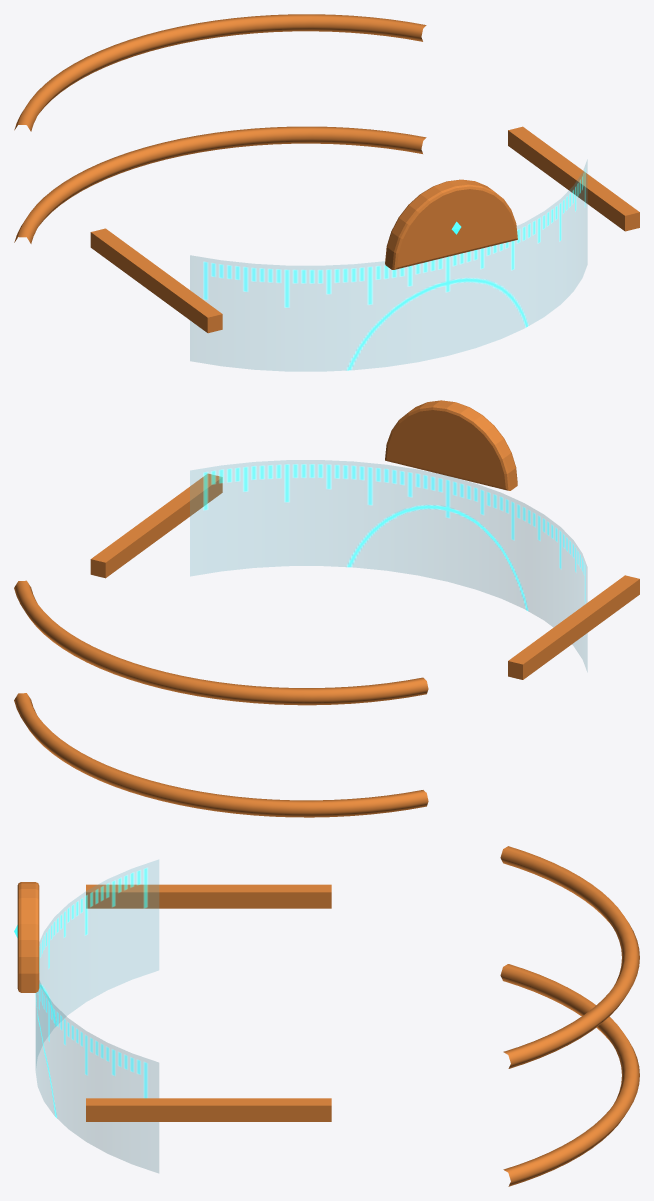
Rendered from gl_eqsu3.glb.
3 views of the same model, one above another, from view 1: azimuth 30°, elevation 25°; view 2: azimuth 150°, elevation 25°; view 3: azimuth 270°, elevation 25° (orthographic). The views are drawn at different scales.
Size of the model in its own units: 2.23 by 0.9107 by 2.67.
3 materials, 1 textured.
